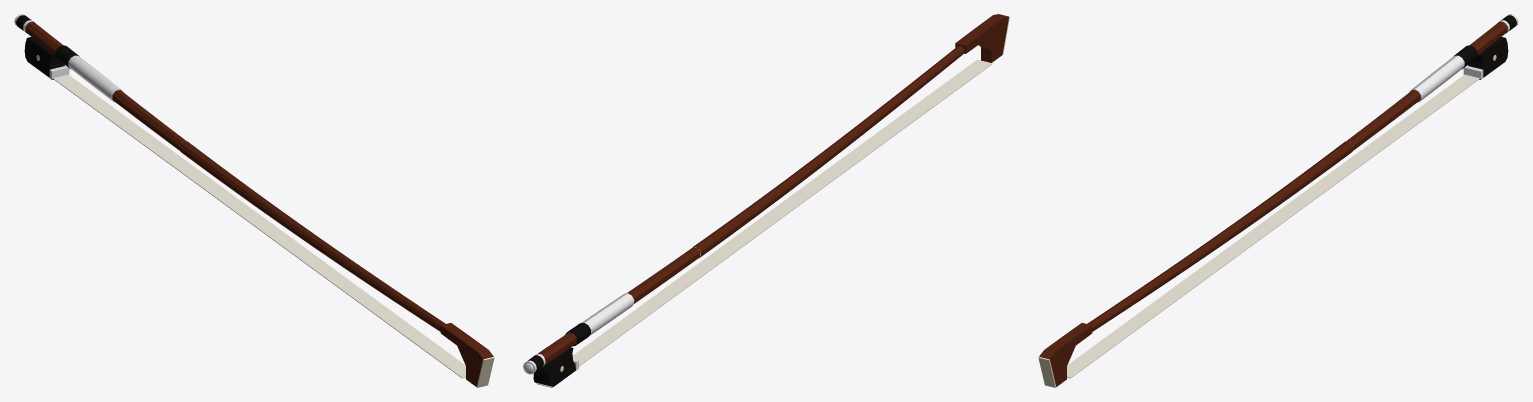
File: bass_bow.glb
3 renders of one model, left to right at view 1: azimuth 30°, elevation 25°; view 2: azimuth 150°, elevation 25°; view 3: azimuth 330°, elevation 25°, orthographic.
Visible parts, largest first — view 1: bass_bow_pernambuco, bass_bow_hair, bass_bow_ebony, bass_bow_silver; view 2: bass_bow_pernambuco, bass_bow_hair, bass_bow_ebony, bass_bow_silver; view 3: bass_bow_pernambuco, bass_bow_hair, bass_bow_ebony, bass_bow_silver.
Boxes of the visible parts, <box> form: bass_bow_pernambuco: <box>25,21,493,386</box>; bass_bow_hair: <box>53,74,465,378</box>; bass_bow_ebony: <box>16,15,79,79</box>; bass_bow_silver: <box>14,14,123,102</box>; bass_bow_pernambuco: <box>538,14,1008,364</box>; bass_bow_hair: <box>572,59,992,366</box>; bass_bow_ebony: <box>528,323,590,386</box>; bass_bow_silver: <box>523,293,634,387</box>; bass_bow_pernambuco: <box>1039,21,1507,386</box>; bass_bow_hair: <box>1067,74,1479,378</box>; bass_bow_ebony: <box>1453,15,1516,79</box>; bass_bow_silver: <box>1409,14,1518,102</box>.
Size of the model in its own units: 0.0158 by 0.0319 by 0.7404.
